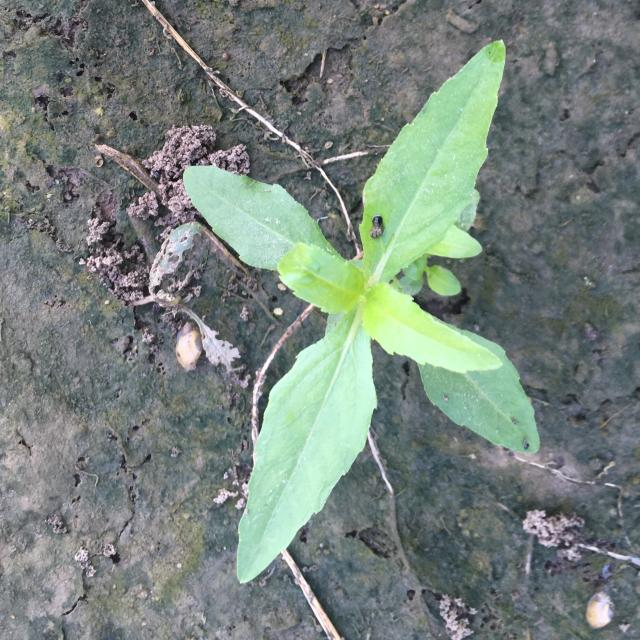Eclipta: (183, 39, 541, 585)
